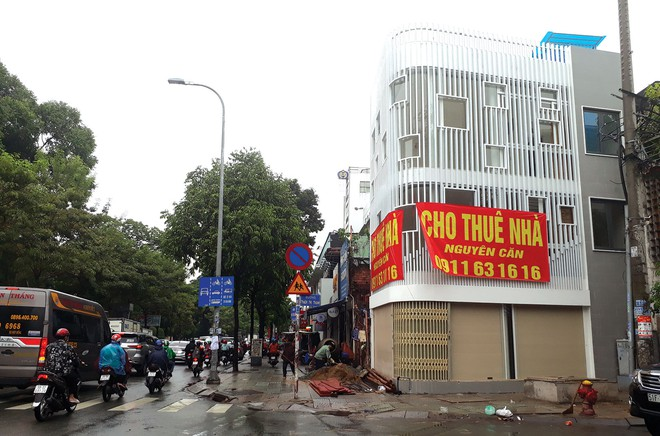banner: (416, 199, 560, 282)
